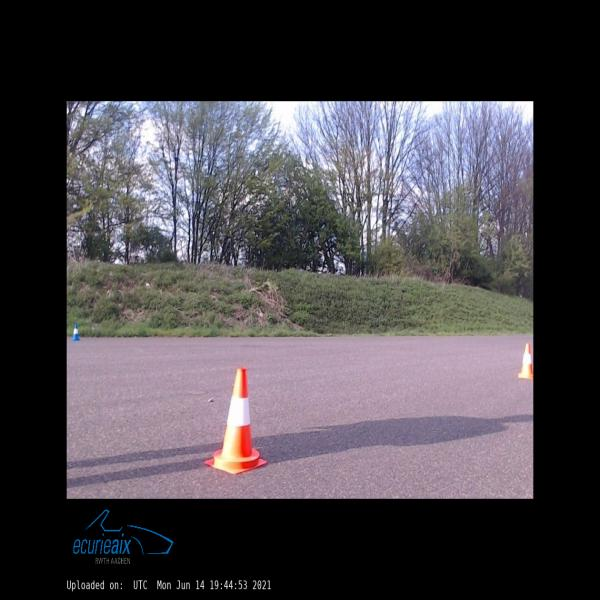blue_cone: (71, 324, 80, 340)
orange_cone: (205, 368, 267, 474), (518, 343, 533, 379)
